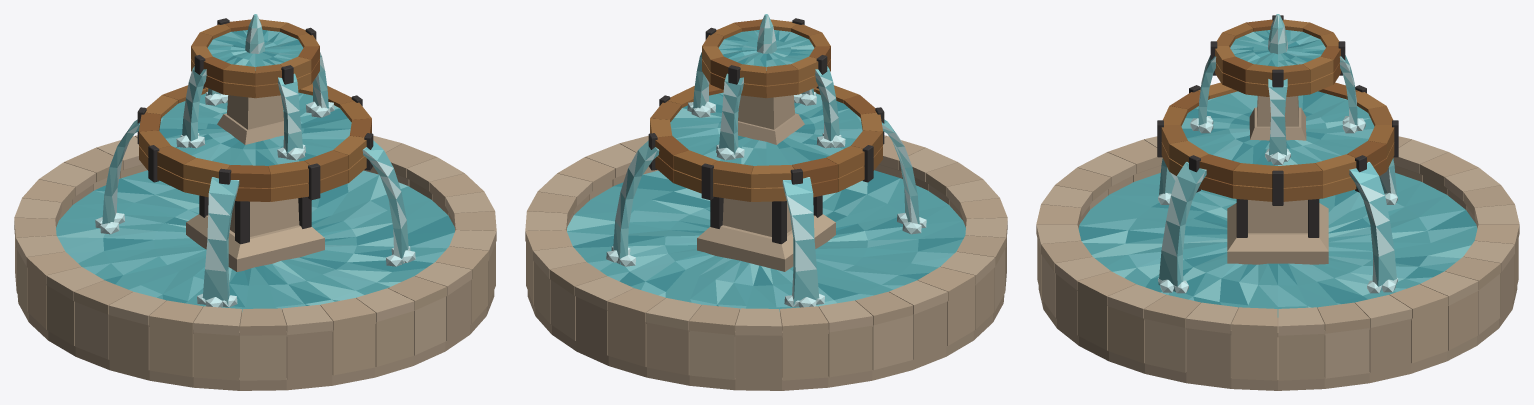
The model's file is fountain.glb.
The picture shows the model from 3 angles, left to right: view 1: azimuth 30°, elevation 25°; view 2: azimuth 150°, elevation 25°; view 3: azimuth 270°, elevation 25°; orthographic projection.
Visible parts, largest first — view 1: body, water; view 2: body, water; view 3: body, water.
Boxes of the visible parts, x1=… form: body: x1=14, y1=18, x2=496, y2=390; water: x1=56, y1=14, x2=454, y2=311; body: x1=525, y1=18, x2=1007, y2=390; water: x1=567, y1=14, x2=965, y2=311; body: x1=1036, y1=15, x2=1519, y2=390; water: x1=1078, y1=14, x2=1477, y2=317.
Size of the model in its own units: 3 by 1.88 by 3.
